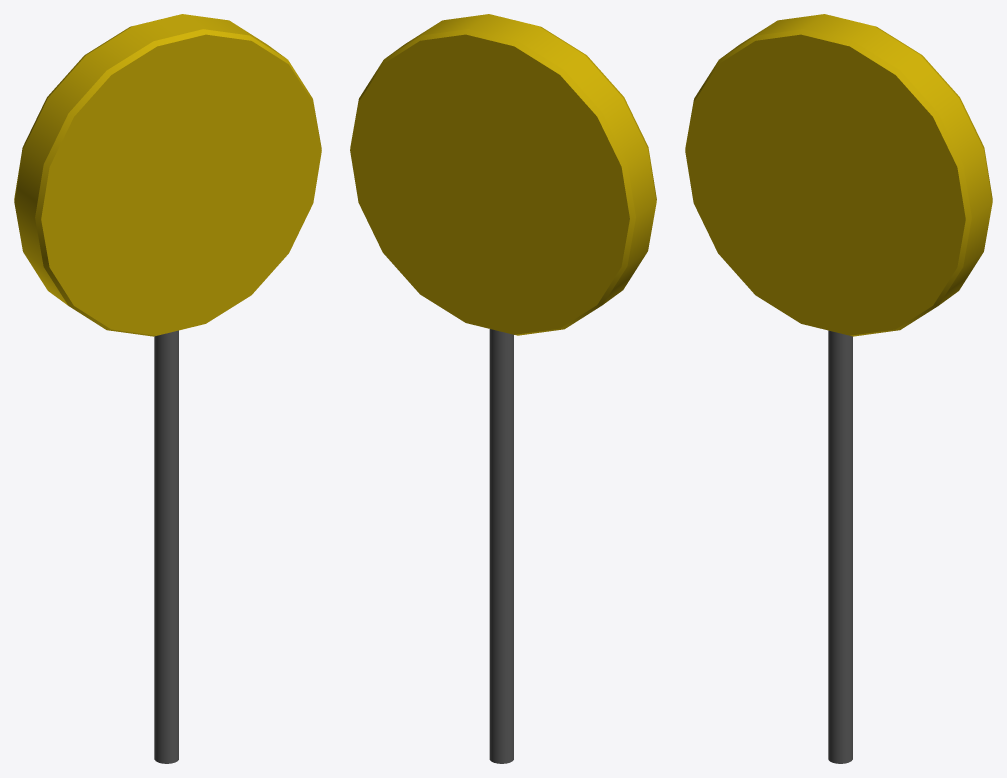
File: lolipop yellow.FBX
3 views of the same model, side by side, from view 1: azimuth 30°, elevation 25°; view 2: azimuth 150°, elevation 25°; view 3: azimuth 330°, elevation 25° (orthographic).
Parts seen in each view (by area): view 1: Cylinder008, Cylinder007; view 2: Cylinder008, Cylinder007; view 3: Cylinder008, Cylinder007.
Part boxes in pixels (<box>): Cylinder008: <box>14,14,321,336</box>; Cylinder007: <box>154,330,178,763</box>; Cylinder008: <box>350,14,656,335</box>; Cylinder007: <box>489,329,513,763</box>; Cylinder008: <box>685,14,992,336</box>; Cylinder007: <box>828,330,852,763</box>.
Size of the model in its own units: 16.39 by 40.01 by 2.67.
